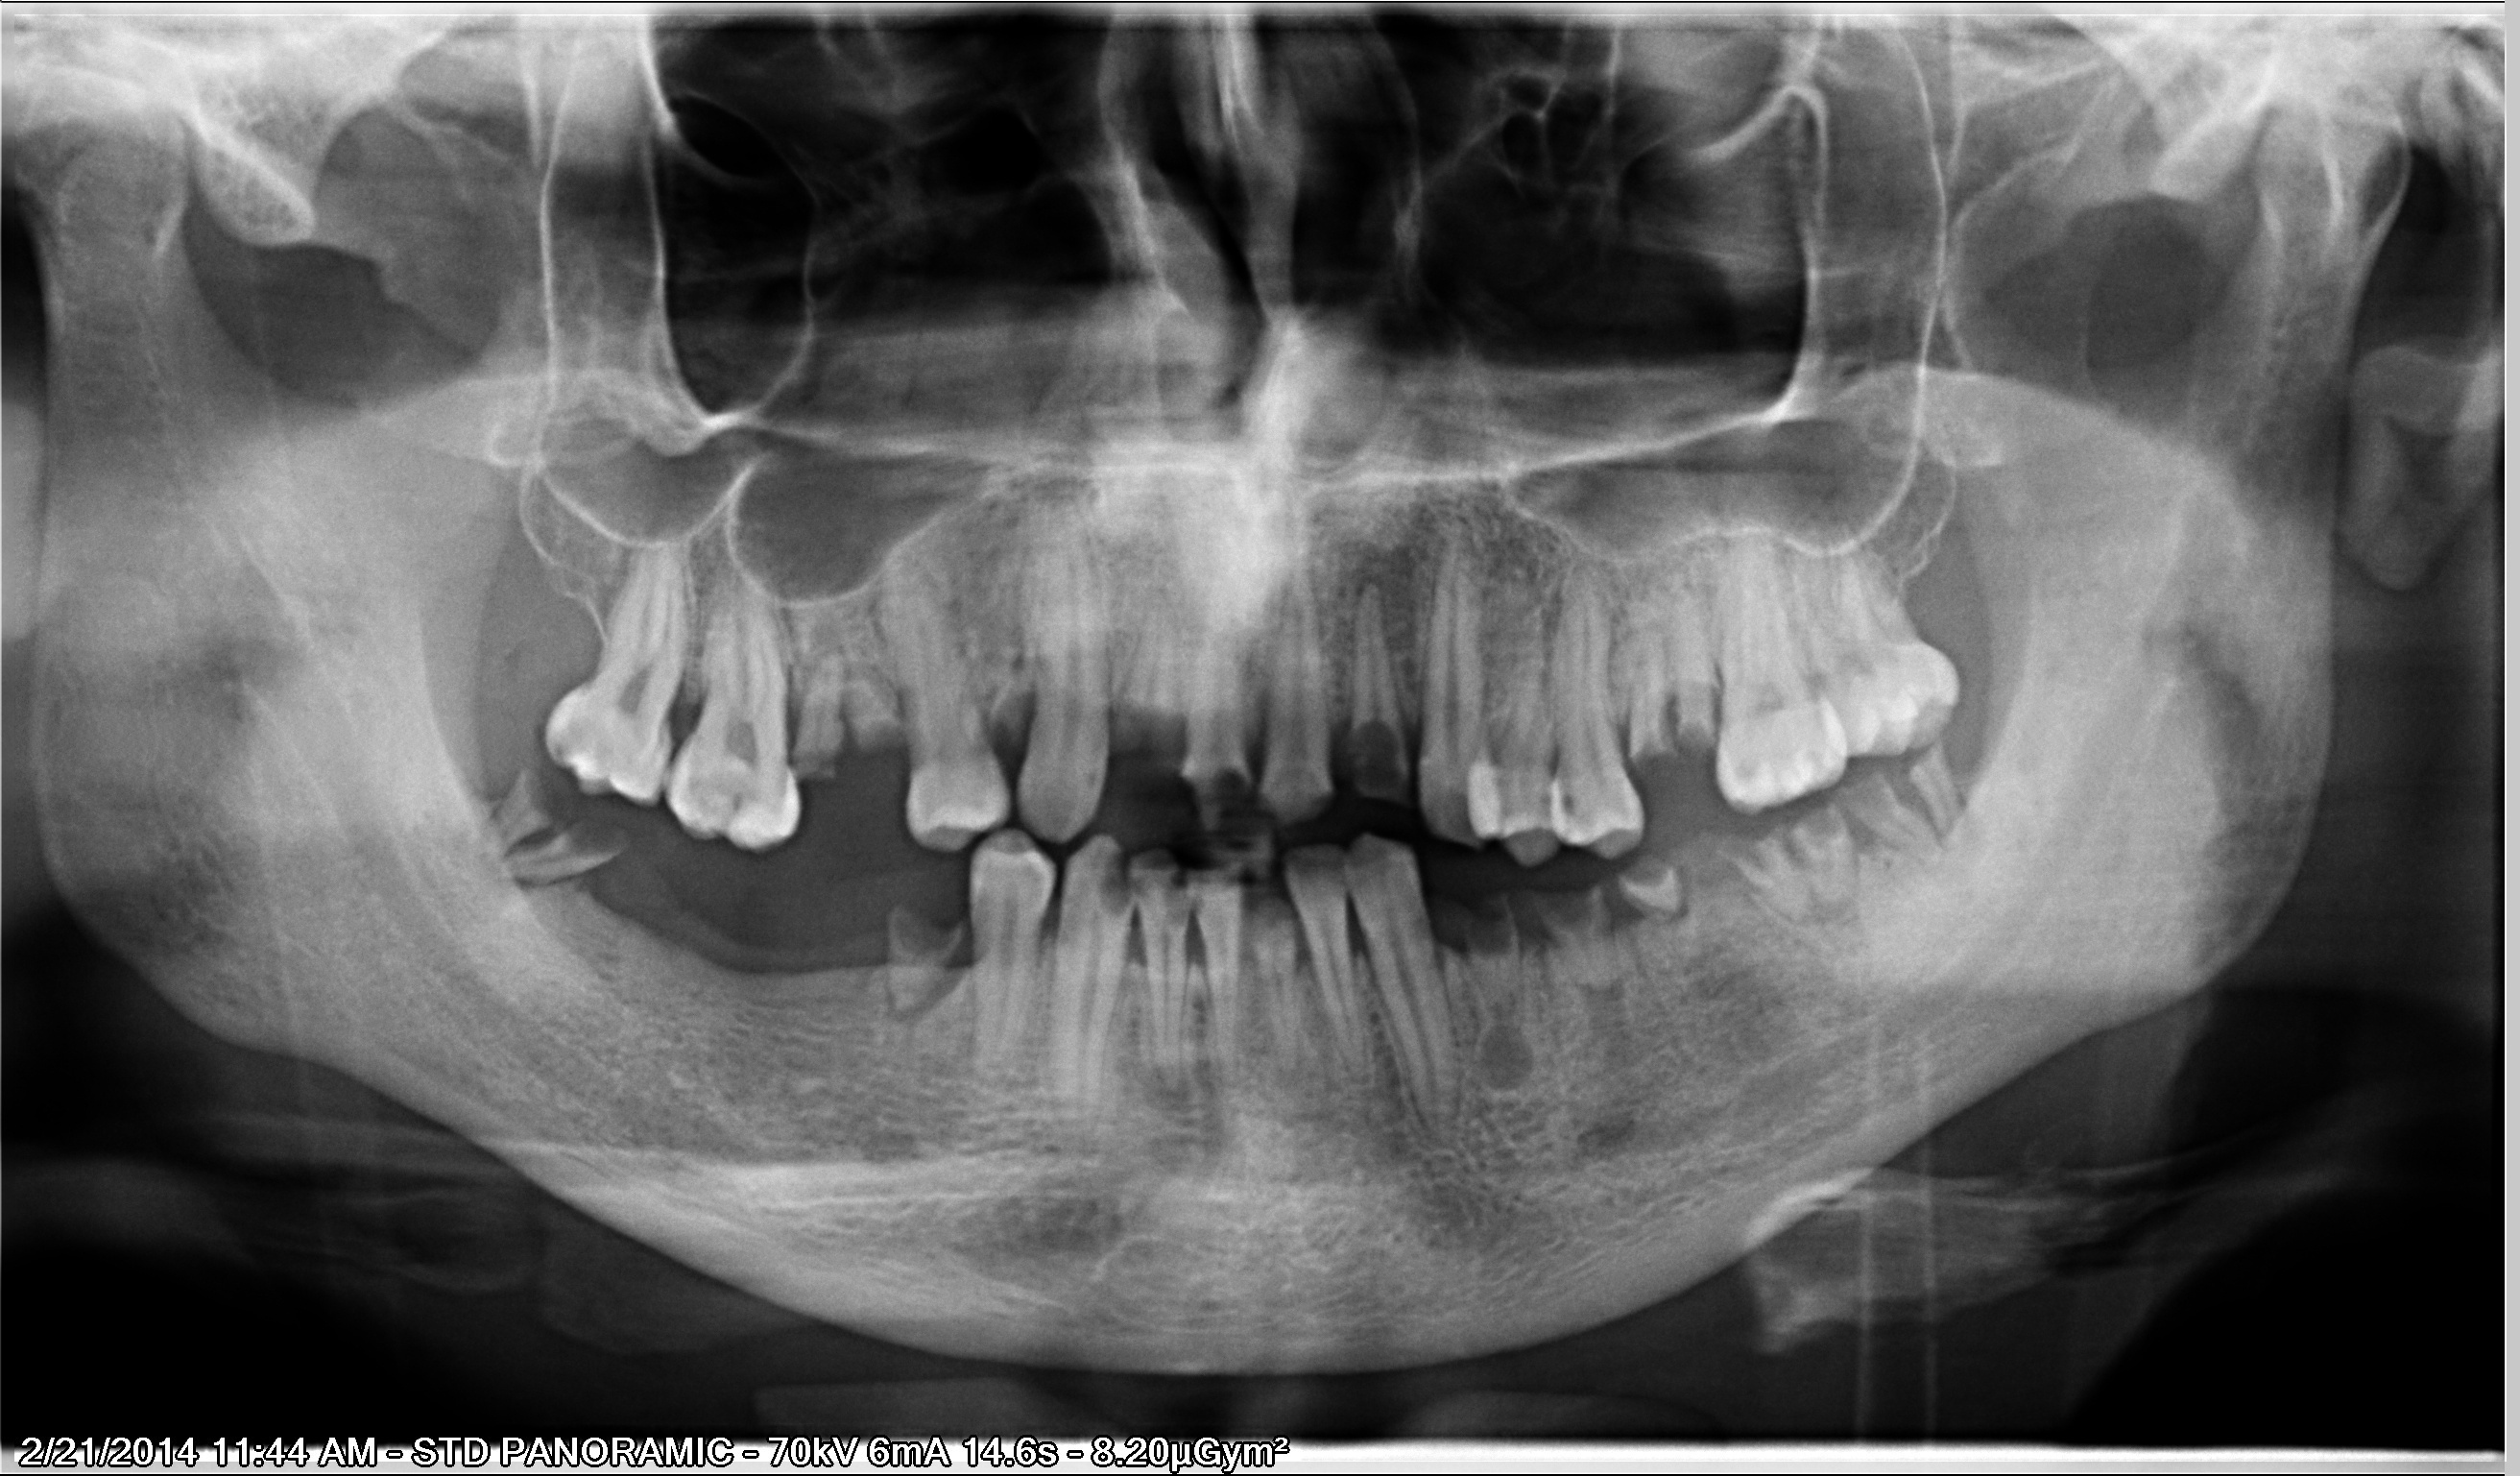API: (662, 272, 2048, 875)
BON: (402, 453, 1372, 1476)
CAR: (241, 334, 852, 1096)
ROT: (369, 260, 1213, 1042)
